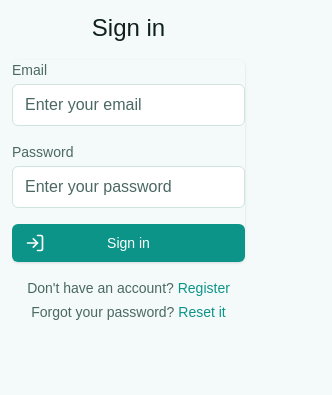
LoginForm › switches to register mode and shows the display name field
What coordinates should you click on to do the following:
click the button "Register"
I would click on:
 (204, 288)
Its box is 178,278 -> 230,298.
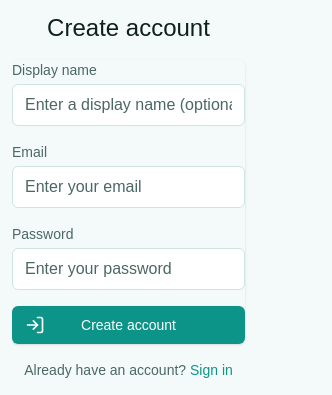
Check: the heading "Create account" is shown, box 47,14 -> 210,41
Check: the field labelled "Display name" is shown, box 12,84 -> 245,126
